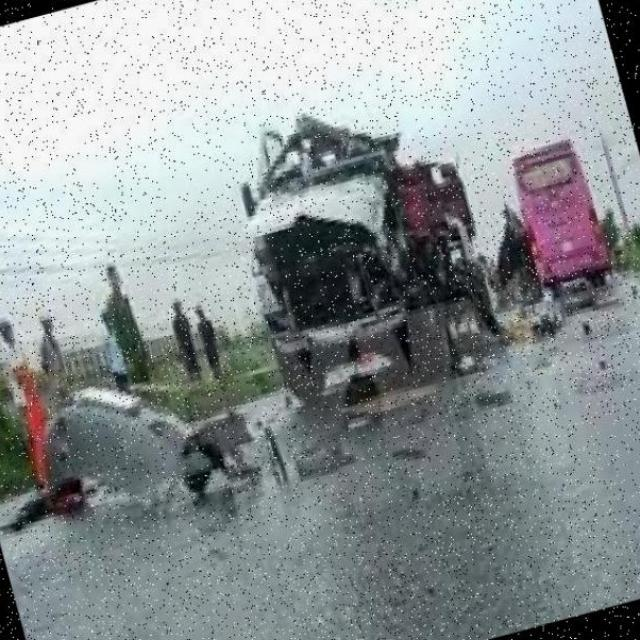accident: (189, 9, 522, 427)
